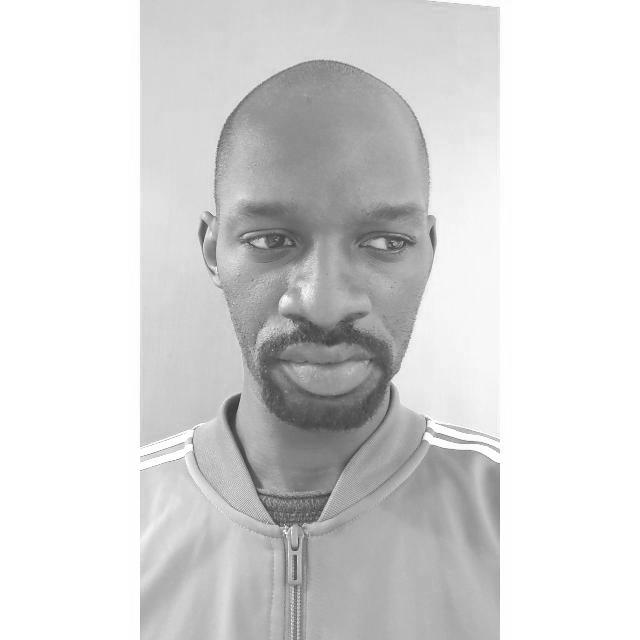real: (217, 86, 430, 433)
